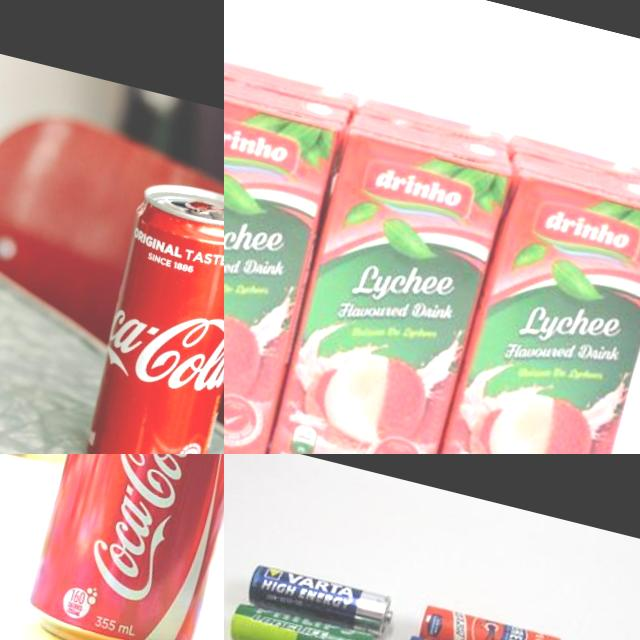bateria: (246, 562, 399, 639), (227, 597, 385, 640), (415, 603, 564, 640)
caixinha: (224, 48, 640, 454)
lata: (71, 174, 224, 454), (19, 454, 224, 640)
